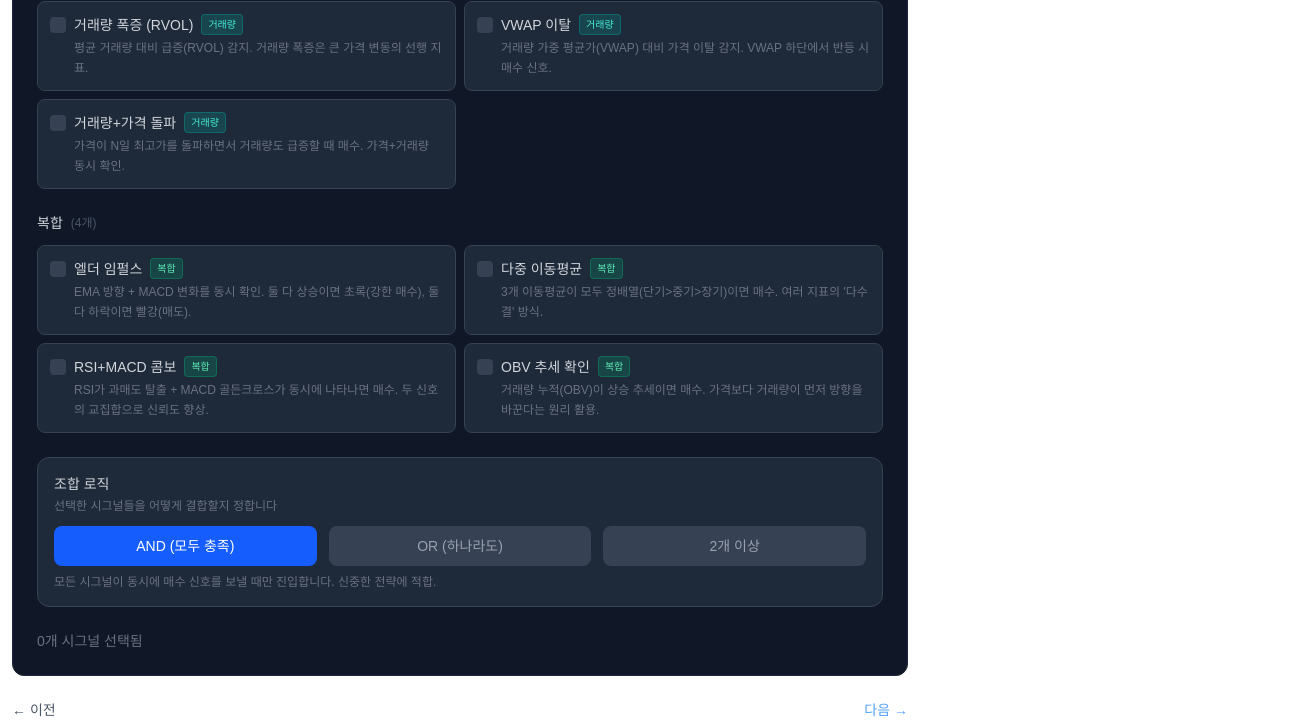
Test case: RecipeBuilderPage › prev/next navigation buttons work
(page scrolled)
Expected: the button "← 이전" is disabled, [12,700,56,719]
Note: Click "다음"
Click the button "다음 →".
click(886, 710)  # box [864,700,908,719]
(page scrolled)
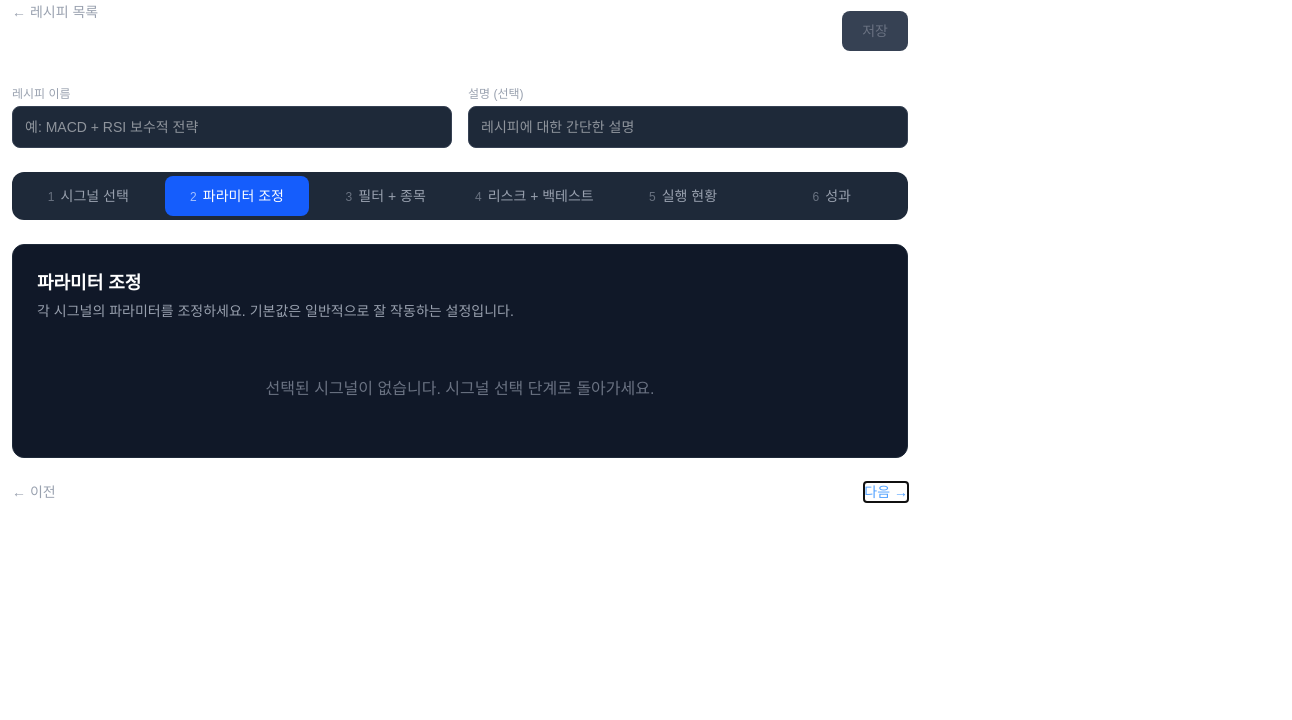
Expected: the button "← 이전" is enabled, [12,482,56,502]
